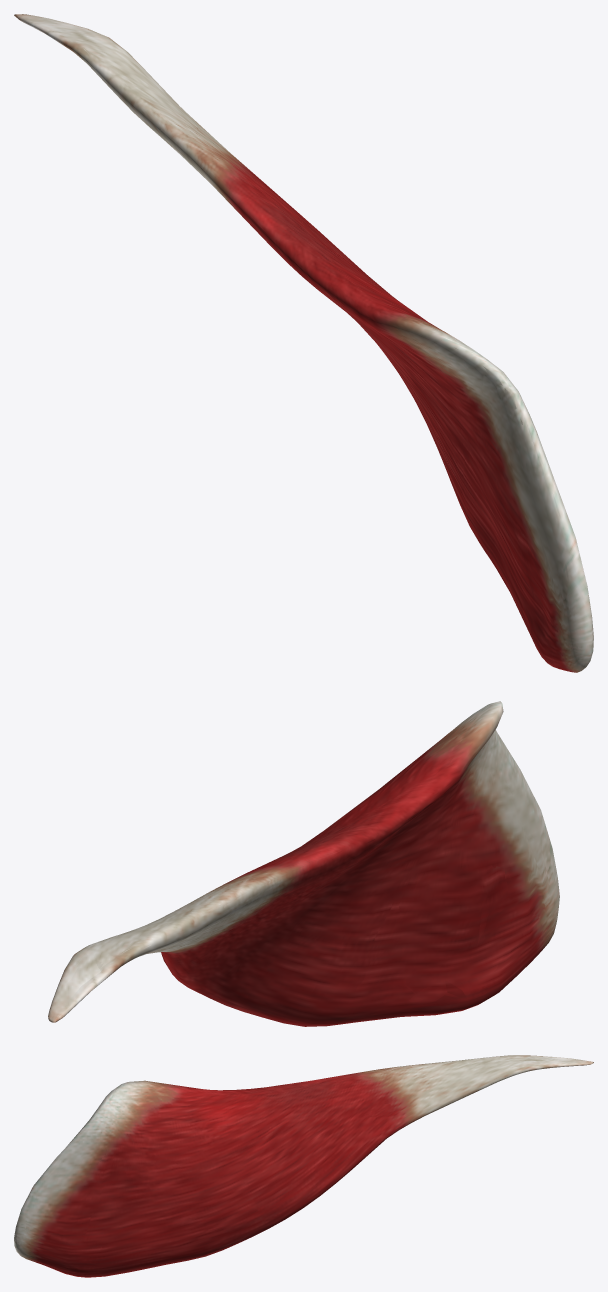
Rendered from L Latissimus Dorsi.fbx.
The picture shows the model from 3 angles, top to bottom: view 1: azimuth 30°, elevation 25°; view 2: azimuth 150°, elevation 25°; view 3: azimuth 270°, elevation 25°; orthographic projection. The views are drawn at different scales.
Parts seen in each view (by area): view 1: L Latissimus Dorsi, L Latissimus Dorsi low, L Latissimus Dorsi high; view 2: L Latissimus Dorsi, L Latissimus Dorsi high, L Latissimus Dorsi low; view 3: L Latissimus Dorsi, L Latissimus Dorsi low, L Latissimus Dorsi high.
Part boxes in pixels (x1,y1,x2,y2): L Latissimus Dorsi: (14,14,593,672); L Latissimus Dorsi low: (15,14,592,671); L Latissimus Dorsi high: (16,14,592,670); L Latissimus Dorsi: (48,701,559,1026); L Latissimus Dorsi high: (51,703,555,1020); L Latissimus Dorsi low: (48,702,559,1026); L Latissimus Dorsi: (14,1055,593,1277); L Latissimus Dorsi low: (14,1055,592,1276); L Latissimus Dorsi high: (15,1057,588,1269).
Bounding box in the file's own units: 4.07 × 9.19 × 24.26.
1 material, 1 textured.
